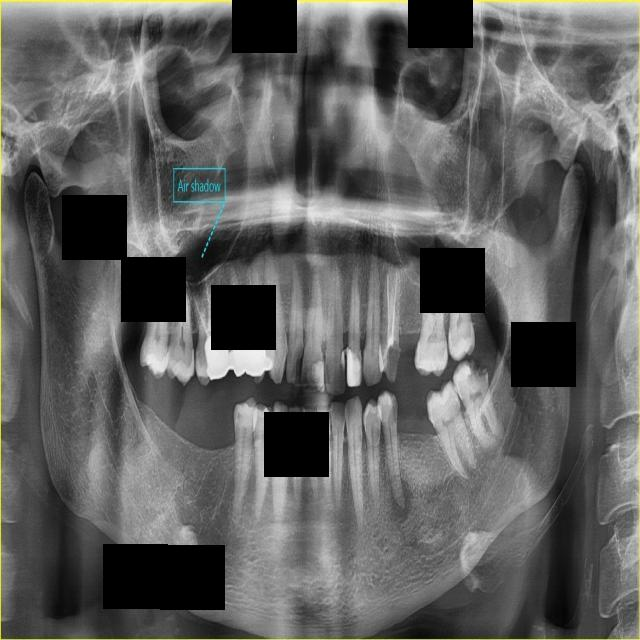71: (234, 310, 240, 340)
74: (192, 284, 214, 339), (384, 274, 398, 346), (257, 275, 263, 334), (212, 290, 218, 335), (230, 283, 237, 307), (248, 275, 253, 295)
NucleOSS Implant: (235, 332, 276, 381), (204, 334, 230, 380), (228, 335, 250, 379)
Sterngold Implant: (468, 356, 489, 387), (289, 341, 304, 383), (386, 395, 401, 428), (301, 365, 312, 388), (324, 361, 332, 386), (428, 408, 434, 425)
Straumann Implant: (380, 338, 406, 383), (347, 346, 361, 386), (310, 357, 326, 391), (340, 348, 345, 372)
